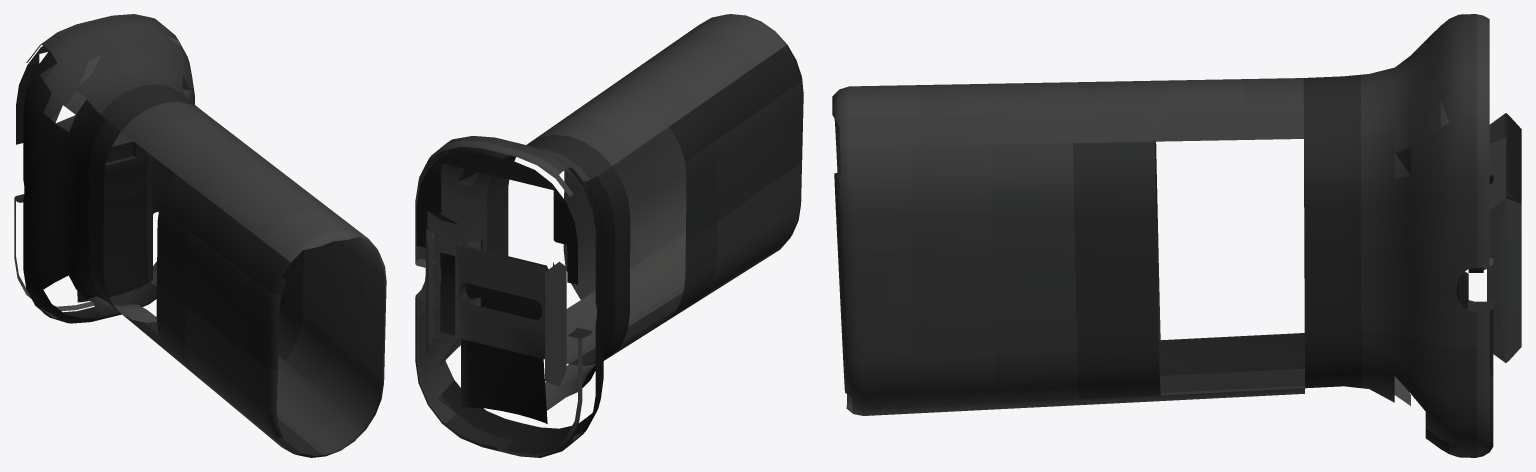
File: Grip_Vertical.fbx
3 views of the same model, side by side, from view 1: azimuth 30°, elevation 25°; view 2: azimuth 150°, elevation 25°; view 3: azimuth 270°, elevation 25° (orthographic). The views are drawn at different scales.
Visible parts, largest first — view 1: asset_Grip_Vertical.001; view 2: asset_Grip_Vertical.001; view 3: asset_Grip_Vertical.001.
Part boxes in pixels (x1=…): asset_Grip_Vertical.001: x1=14, y1=14, x2=386, y2=457; asset_Grip_Vertical.001: x1=415, y1=14, x2=803, y2=457; asset_Grip_Vertical.001: x1=832, y1=14, x2=1521, y2=457.
Bounding box in the file's own units: 0.0227 × 0.0385 × 0.06.
